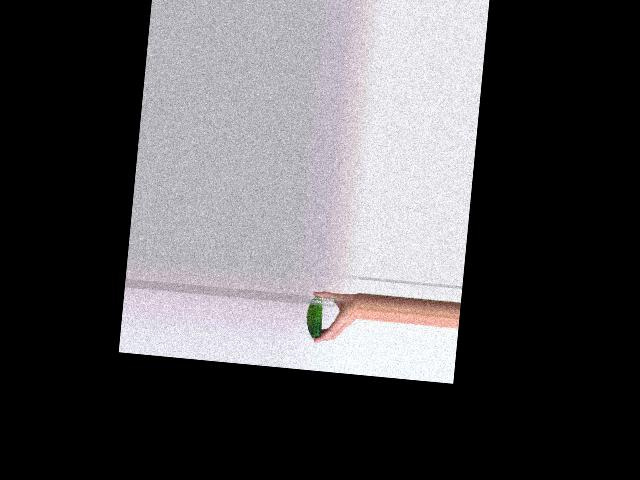cucumber: (304, 295, 324, 338)
